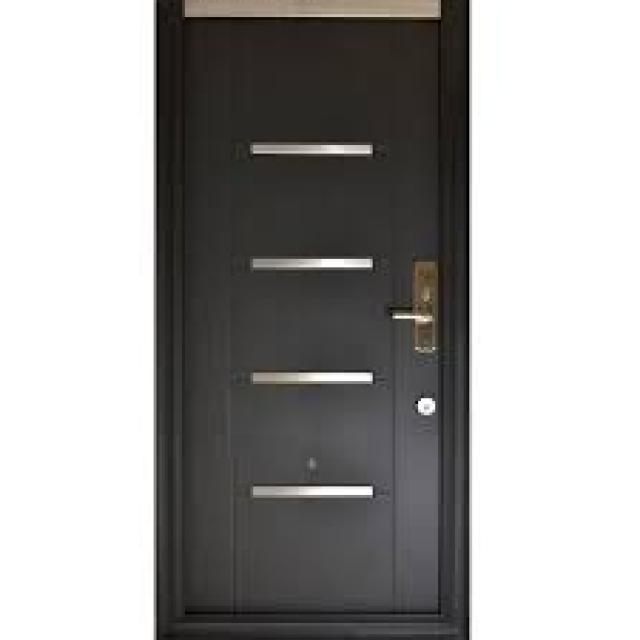door: (156, 0, 464, 640)
